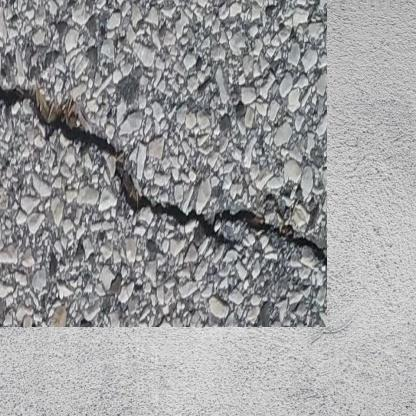Cracks: (0, 62, 302, 254)
